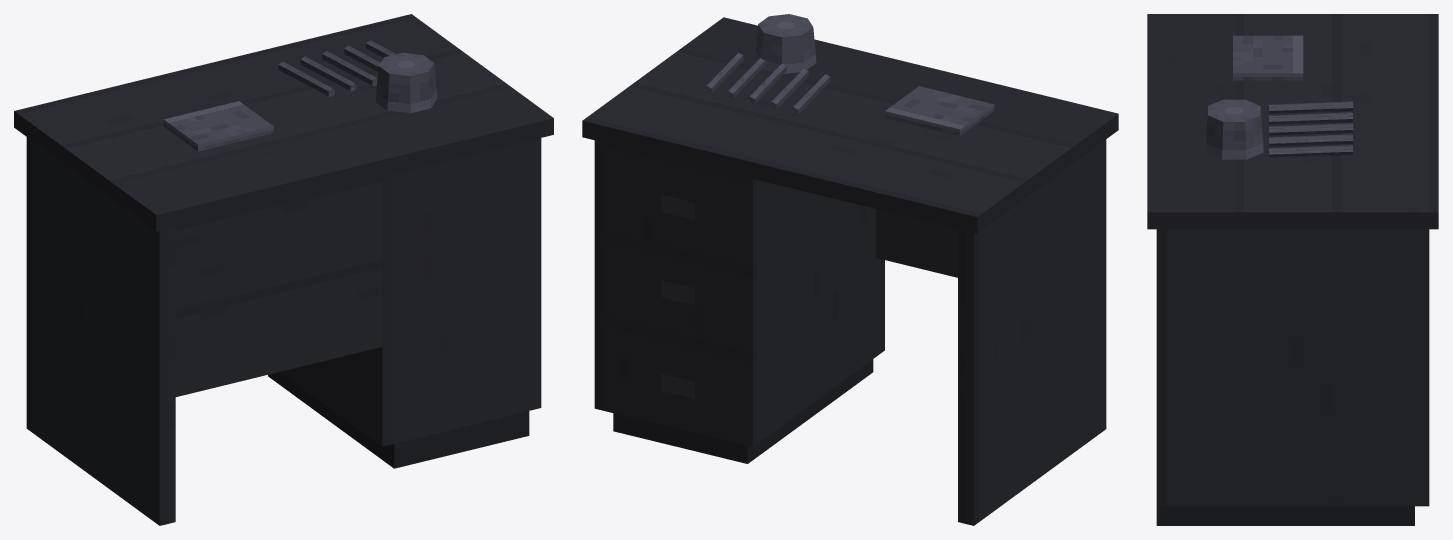
The model's file is f_vitrified_desk.glb.
3 renders of one model, left to right at view 1: azimuth 30°, elevation 25°; view 2: azimuth 150°, elevation 25°; view 3: azimuth 270°, elevation 25°, orthographic. The views are drawn at different scales.
Parts seen in each view (by area): view 1: block_top, block_pedestal, block_panel, block_modesty, block_pedestal-plinth, block_fused-paper-and-notes, block_fused-glass-cup, block_glass-pens-1; view 2: block_pedestal, block_top, block_panel, block_pedestal-plinth, block_modesty, block_fused-paper-and-notes, block_fused-glass-cup; view 3: block_pedestal, block_top, block_pedestal-plinth, block_glass-pens-1 (×5), block_fused-paper-and-notes, block_fused-glass-cup.
Part boxes in pixels (bbox=[...]): block_top: bbox=[14, 14, 553, 231]; block_pedestal: bbox=[280, 138, 541, 446]; block_panel: bbox=[26, 137, 175, 525]; block_modesty: bbox=[175, 177, 382, 396]; block_pedestal-plinth: bbox=[268, 372, 529, 468]; block_fused-paper-and-notes: bbox=[163, 101, 273, 151]; block_fused-glass-cup: bbox=[375, 52, 437, 113]; block_glass-pens-1: bbox=[300, 56, 357, 91]; block_pedestal: bbox=[594, 140, 884, 447]; block_top: bbox=[582, 17, 1118, 233]; block_panel: bbox=[958, 139, 1106, 525]; block_pedestal-plinth: bbox=[613, 359, 873, 463]; block_modesty: bbox=[876, 209, 957, 277]; block_fused-paper-and-notes: bbox=[885, 86, 994, 136]; block_fused-glass-cup: bbox=[755, 14, 816, 73]; block_pedestal: bbox=[1156, 229, 1429, 506]; block_top: bbox=[1147, 14, 1438, 229]; block_pedestal-plinth: bbox=[1156, 506, 1414, 525]; block_glass-pens-1 (×5): bbox=[1268, 101, 1353, 157]; block_fused-paper-and-notes: bbox=[1233, 35, 1303, 80]; block_fused-glass-cup: bbox=[1204, 99, 1263, 159].
Bounding box in the file's own units: 1 × 0.876 × 0.62.
Materials: 2 (2 with a texture image).
